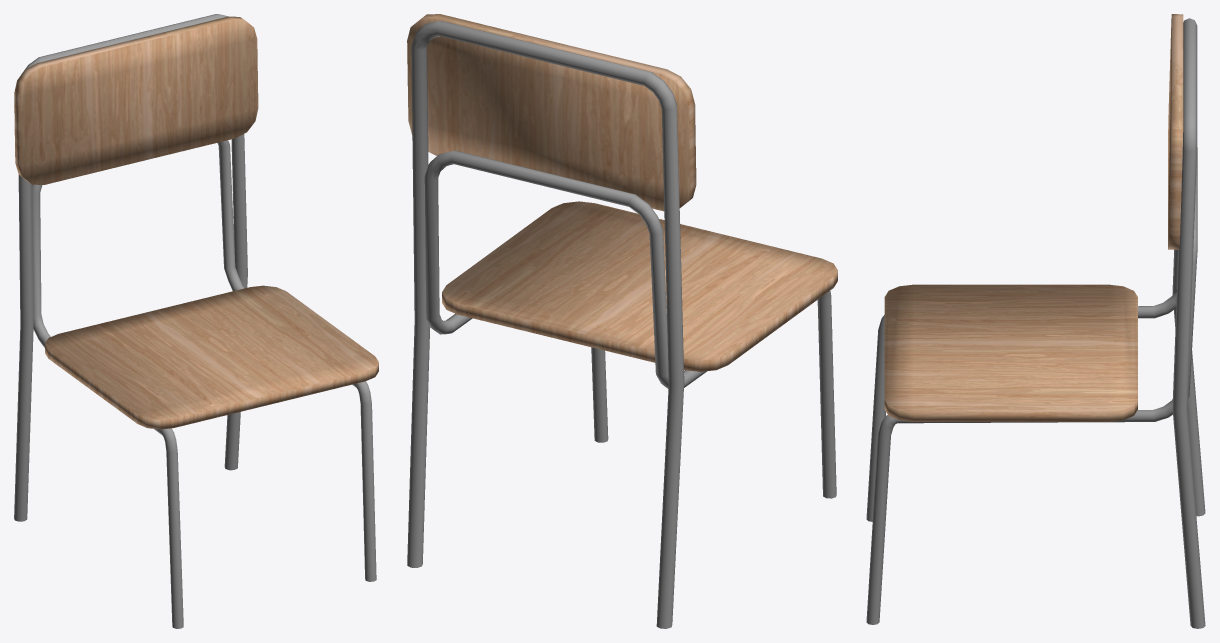
The model's file is ChairCowork.fbx.
The picture shows the model from 3 angles, left to right: view 1: azimuth 30°, elevation 25°; view 2: azimuth 150°, elevation 25°; view 3: azimuth 270°, elevation 25°; orthographic projection. The views are drawn at different scales.
Parts seen in each view (by area): view 1: ChairCowork; view 2: ChairCowork; view 3: ChairCowork.
Boxes of the visible parts, bbox=[...] form: ChairCowork: bbox=[14, 14, 378, 628]; ChairCowork: bbox=[407, 14, 837, 628]; ChairCowork: bbox=[866, 14, 1205, 628].
Size of the model in its own units: 0.4605 by 0.8513 by 0.518.
2 materials, 1 textured.
